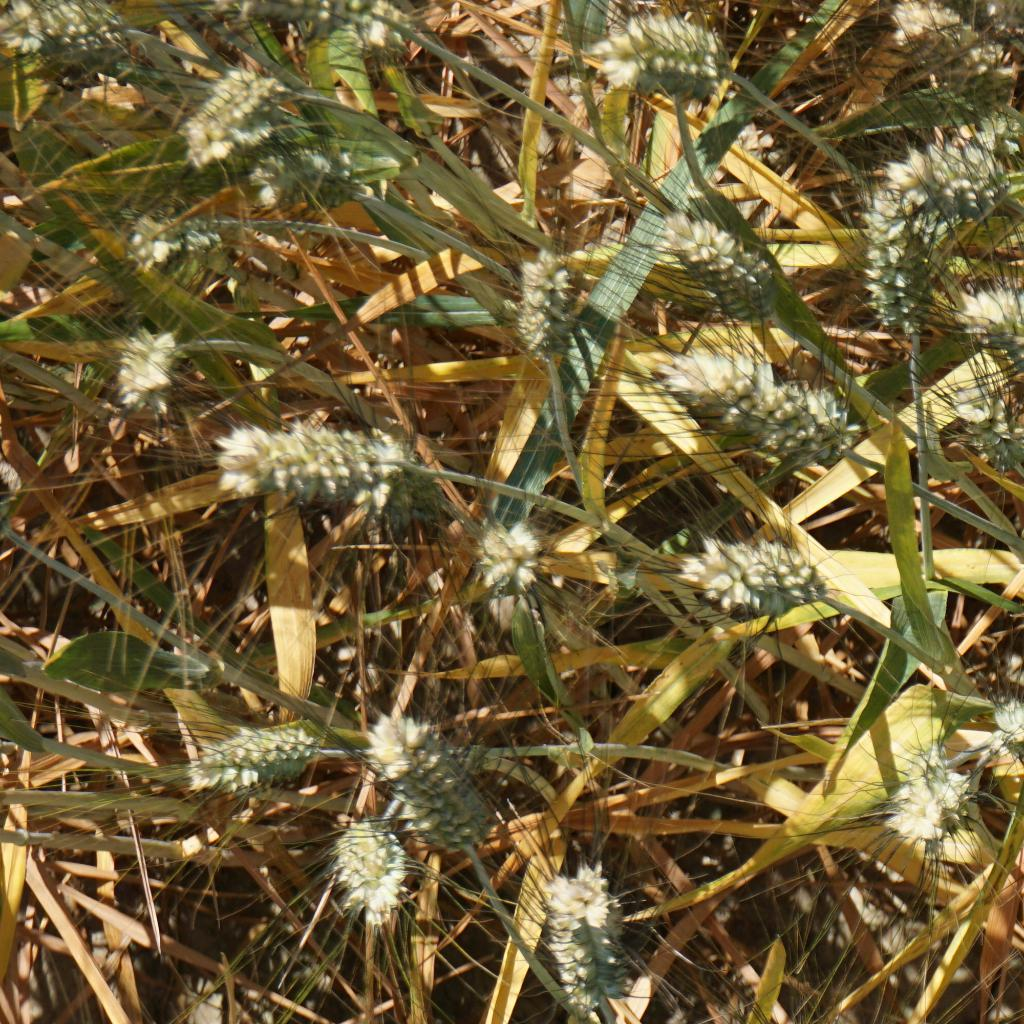0-0: (647, 318, 864, 476), (352, 708, 501, 863), (197, 409, 424, 508), (529, 848, 642, 1021), (679, 516, 828, 644), (653, 198, 787, 338), (583, 5, 740, 107), (883, 0, 1019, 117), (343, 416, 459, 545), (176, 716, 325, 808), (889, 125, 1024, 220), (858, 200, 941, 354), (615, 0, 706, 126), (930, 369, 1024, 486), (504, 234, 590, 360), (328, 819, 427, 927), (183, 62, 279, 159), (104, 314, 188, 422), (13, 0, 141, 70), (238, 139, 356, 206), (902, 738, 966, 850), (330, 0, 419, 71), (128, 212, 228, 273), (472, 518, 545, 582), (961, 281, 1024, 334), (992, 681, 1024, 752), (1002, 318, 1024, 384)
